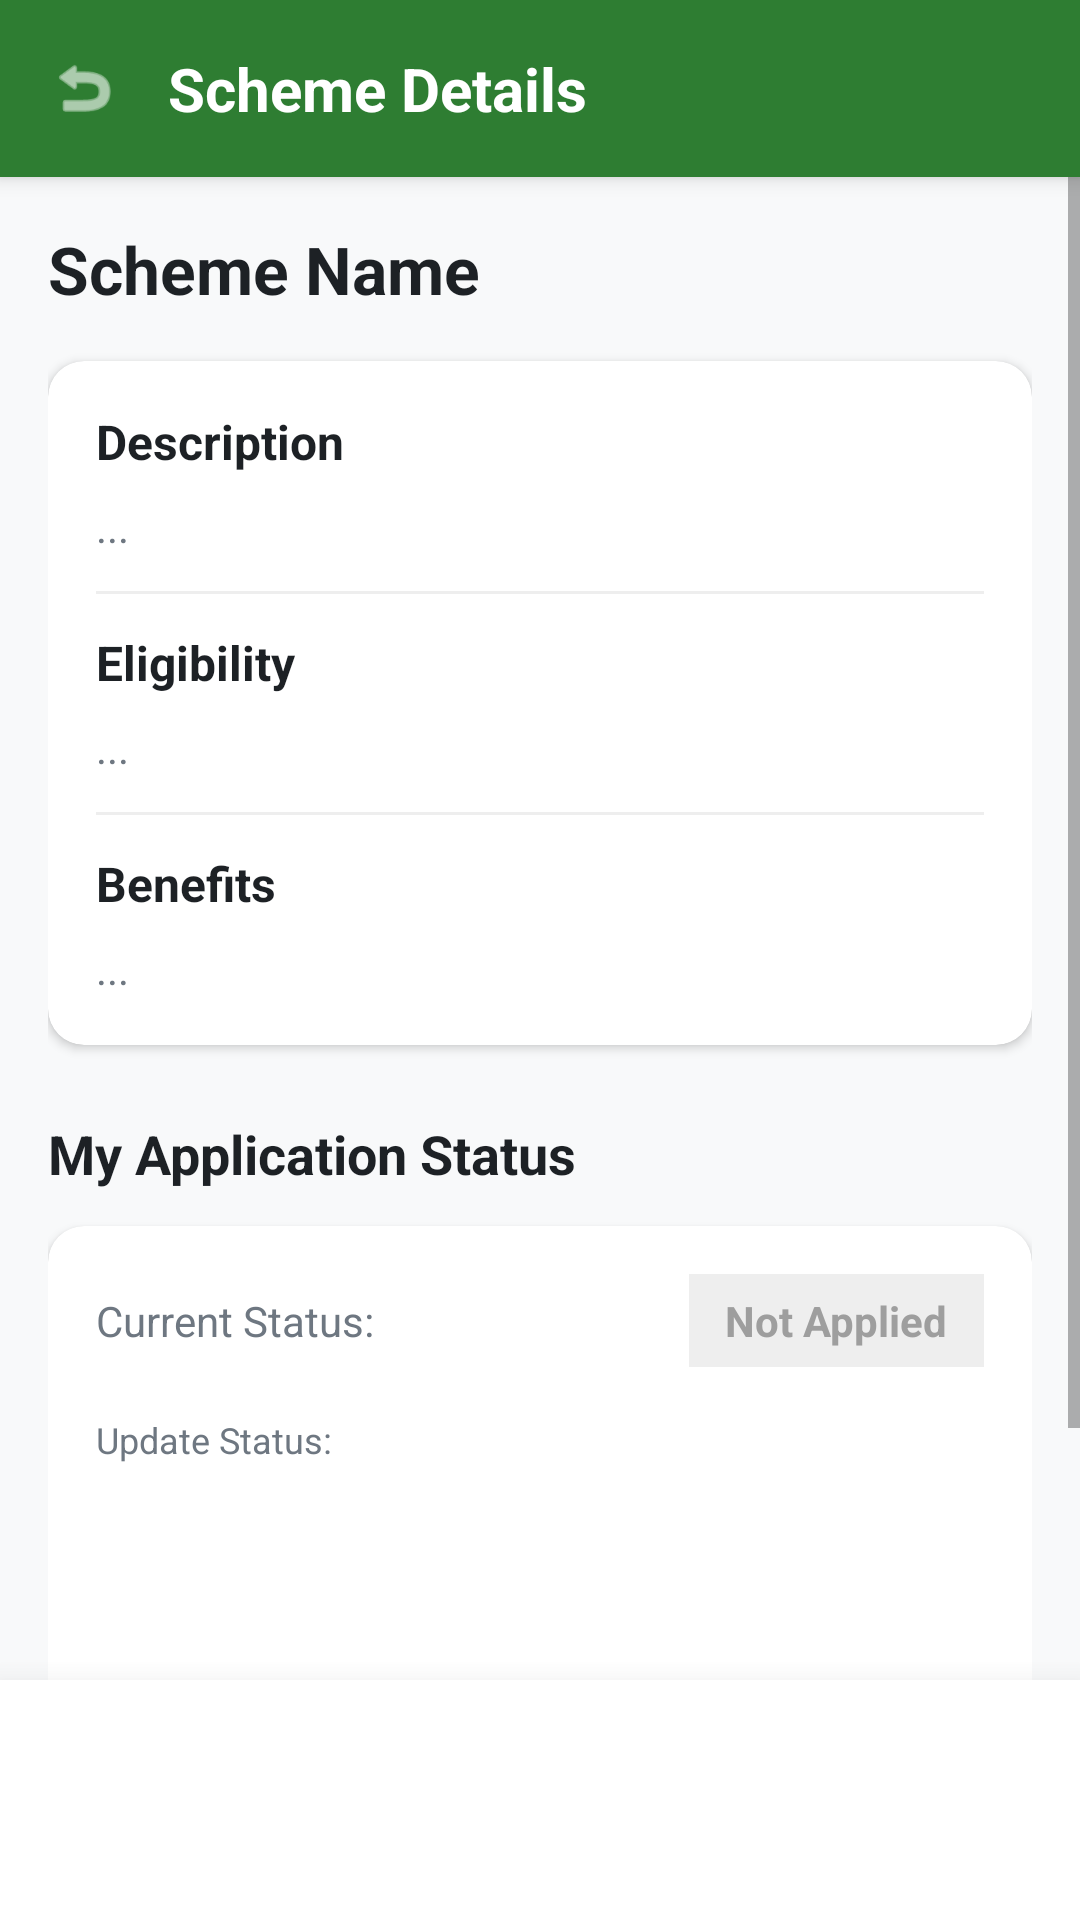

Icons on this 1080×1920 Android screen, each with its box as (x1, y1, x2, y2):
revert: (59, 65, 111, 112)
